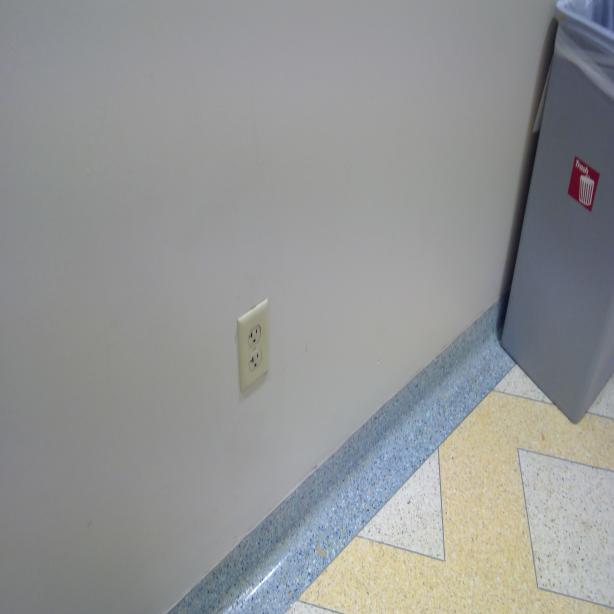typeb: (247, 322, 261, 347), (249, 350, 263, 372)
